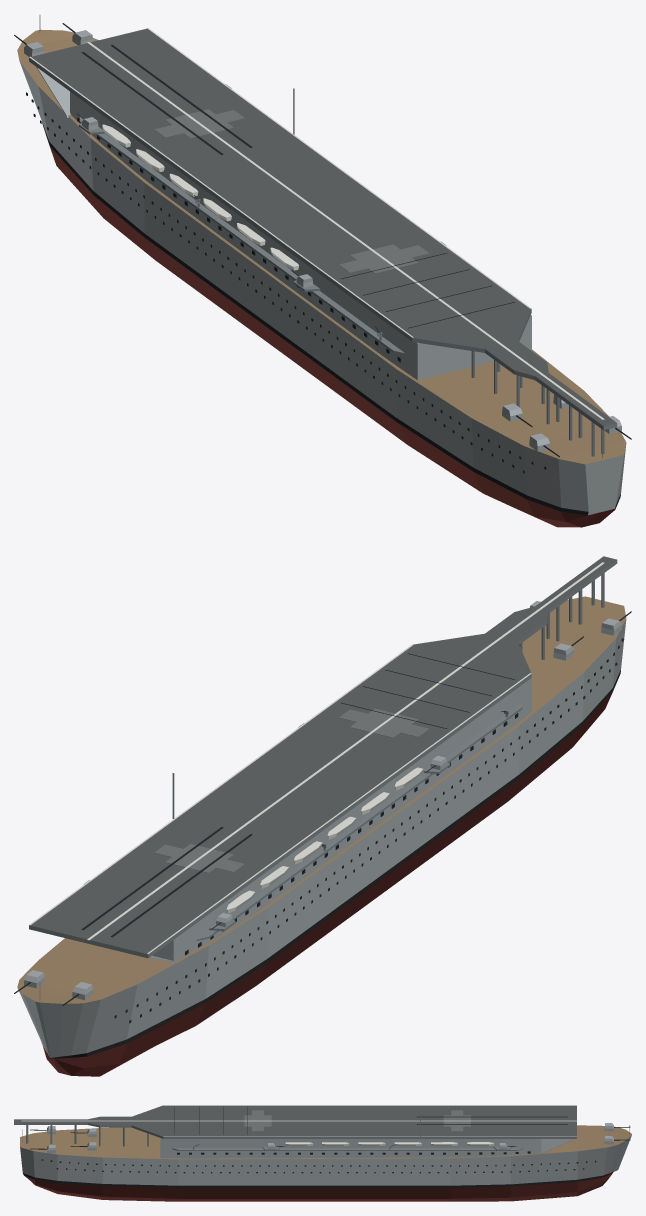
File: sparviero.glb
The picture shows the model from 3 angles, top to bottom: view 1: azimuth 30°, elevation 25°; view 2: azimuth 150°, elevation 25°; view 3: azimuth 270°, elevation 25°; orthographic projection. The views are drawn at different scales.
Visible parts, largest first — view 1: Hull, Flight deck, Hangar, Gallery, Deck edge, Centre line, Lift.001, Lift, Portholes, Launch lanes; view 2: Hull, Flight deck, Hangar, Gallery, Deck edge, Centre line, Lift.001, Lift, Portholes, Launch lanes; view 3: Hull, Flight deck, Hangar, Centre line, Gallery.001, Deck edge, Portholes.001, Lift, Lift.001, Launch lanes, Hangar windows.001, Bow support.
Part boxes in pixels (x1,y1,x2,y2): Hull: (17, 29, 626, 527); Flight deck: (29, 28, 617, 430); Hangar: (70, 91, 531, 380); Gallery: (79, 115, 405, 354); Deck edge: (29, 28, 531, 337); Centre line: (87, 42, 604, 419); Lift.001: (339, 244, 429, 273); Lift: (154, 109, 244, 138); Portholes: (26, 92, 546, 473); Launch lanes: (81, 44, 252, 154); Hull: (17, 596, 626, 1076); Flight deck: (29, 556, 617, 958); Hangar: (152, 675, 531, 961); Gallery: (196, 701, 522, 941); Deck edge: (29, 644, 531, 954); Centre line: (87, 562, 604, 940); Lift.001: (339, 708, 429, 737); Lift: (154, 844, 244, 872); Portholes: (114, 638, 623, 1023); Launch lanes: (81, 827, 252, 937); Hull: (20, 1125, 631, 1201); Flight deck: (14, 1105, 576, 1138); Hangar: (160, 1138, 541, 1158); Centre line: (21, 1120, 577, 1121); Gallery.001: (172, 1148, 522, 1150); Deck edge: (163, 1105, 576, 1136); Portholes.001: (41, 1159, 596, 1173); Lift: (443, 1110, 470, 1131); Lift.001: (244, 1110, 271, 1131); Launch lanes: (416, 1116, 567, 1124); Hangar windows.001: (177, 1151, 530, 1154); Bow support: (539, 1139, 573, 1154).
Bounding box in the file's own units: 30 × 36.7 × 204.
